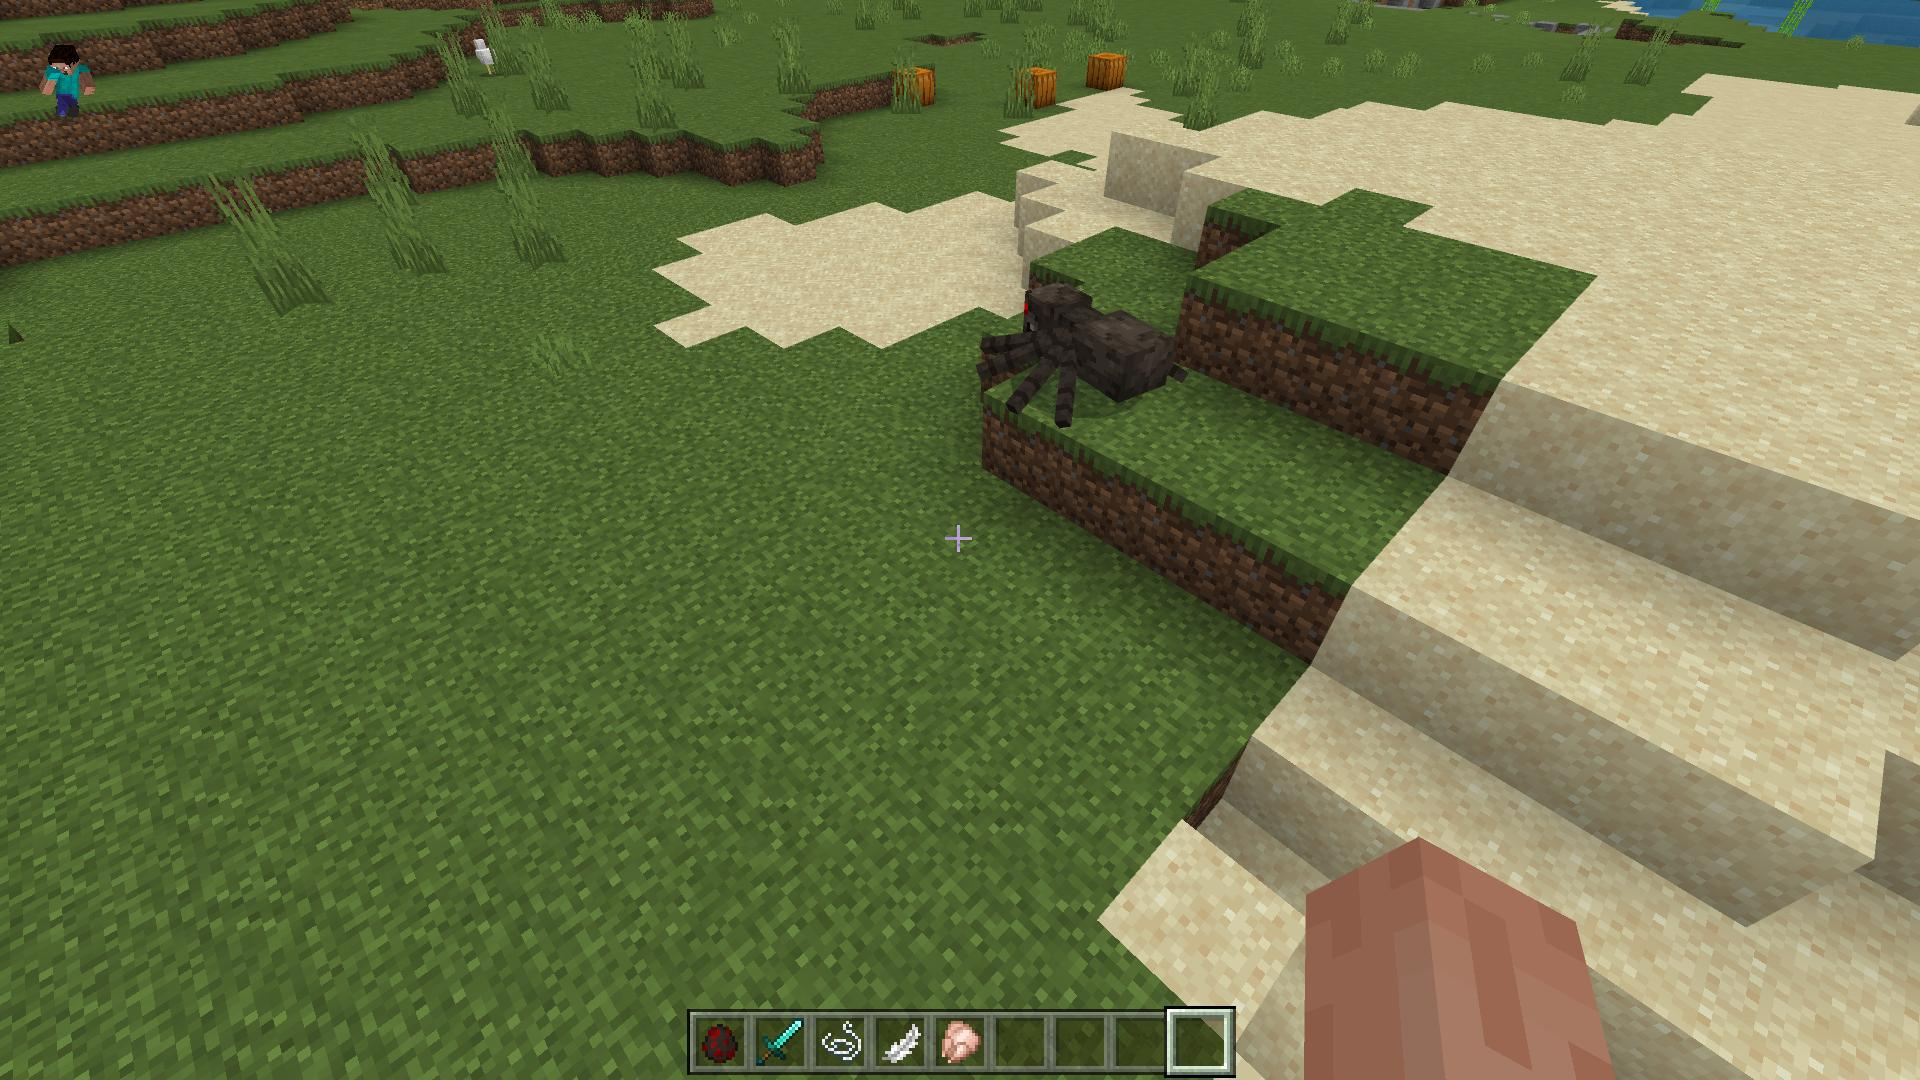spider: (978, 278, 1191, 435)
